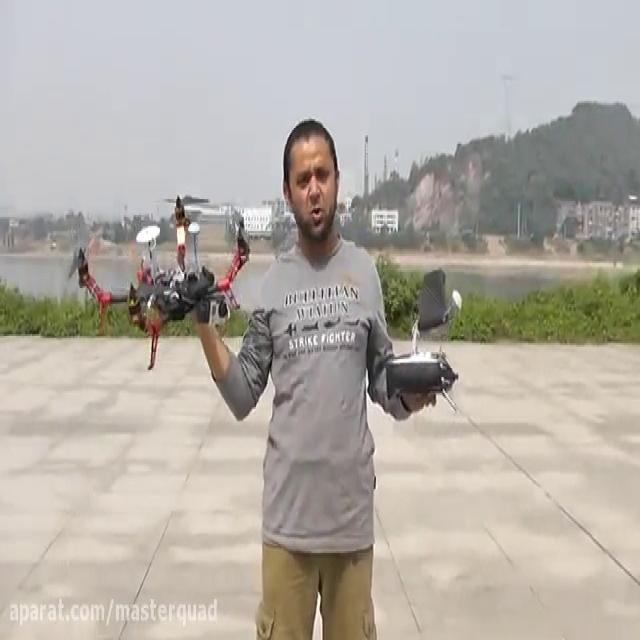drone: (62, 190, 252, 372)
